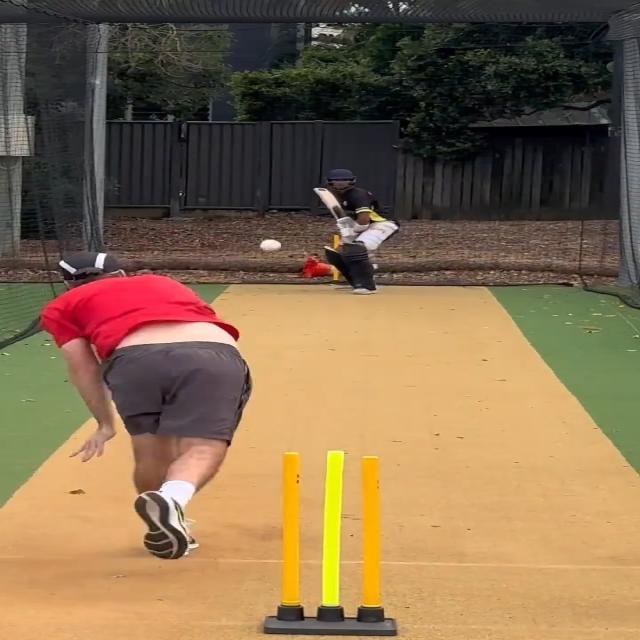ball: (257, 236, 284, 254)
stump: (262, 448, 398, 640)
